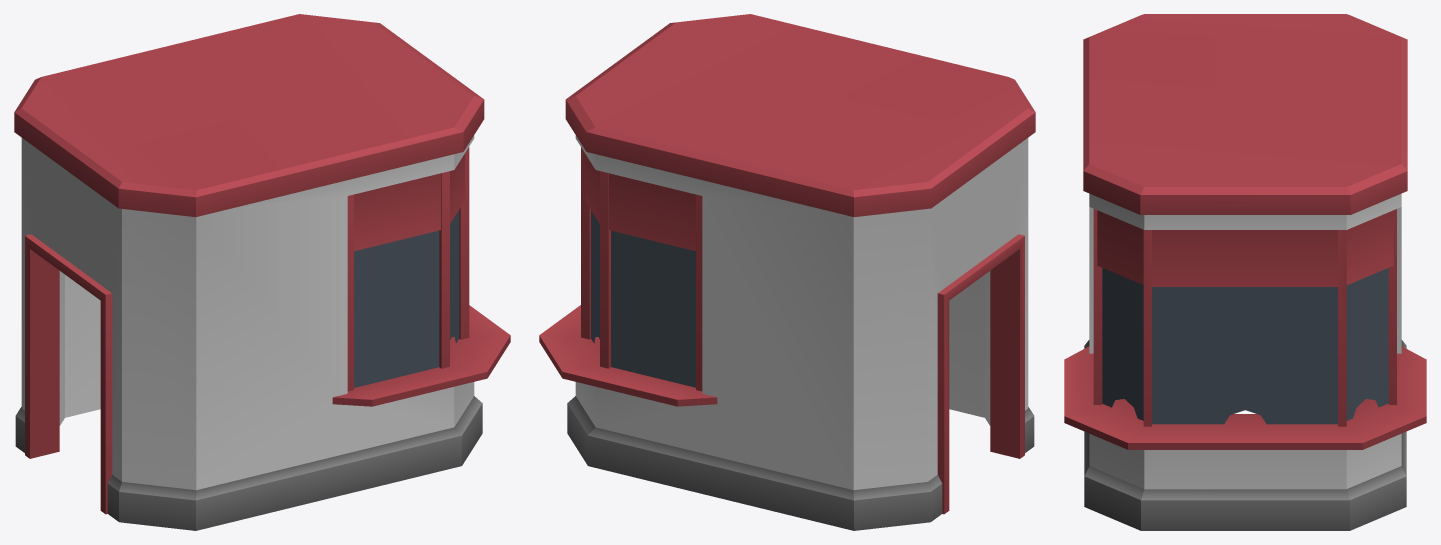
The model's file is hut.glb.
3 views of the same model, side by side, from view 1: azimuth 30°, elevation 25°; view 2: azimuth 150°, elevation 25°; view 3: azimuth 270°, elevation 25° (orthographic).
Visible parts, largest first — view 1: hut; view 2: hut; view 3: hut.
Boxes of the visible parts, x1,y1,x2,y2 form: hut: (14,14,510,530); hut: (539,14,1035,530); hut: (1064,14,1426,530).
Size of the model in its own units: 4.07 by 3.4 by 3.28.
